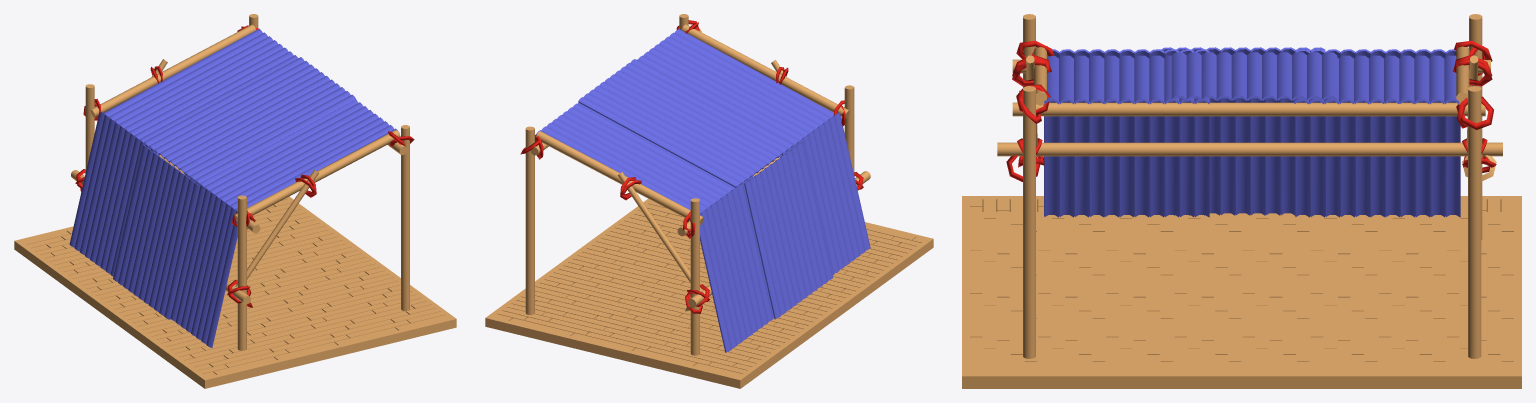
File: Stall06.fbx
3 views of the same model, side by side, from view 1: azimuth 30°, elevation 25°; view 2: azimuth 150°, elevation 25°; view 3: azimuth 270°, elevation 25° (orthographic). The views are drawn at different scales.
Visible parts, largest first — view 1: Cube.412; view 2: Cube.412; view 3: Cube.412.
Part boxes in pixels (x1=…): Cube.412: x1=14, y1=14, x2=456, y2=388; Cube.412: x1=485, y1=14, x2=933, y2=388; Cube.412: x1=962, y1=14, x2=1521, y2=388.
Bounding box in the file's own units: 592 × 428 × 777.
